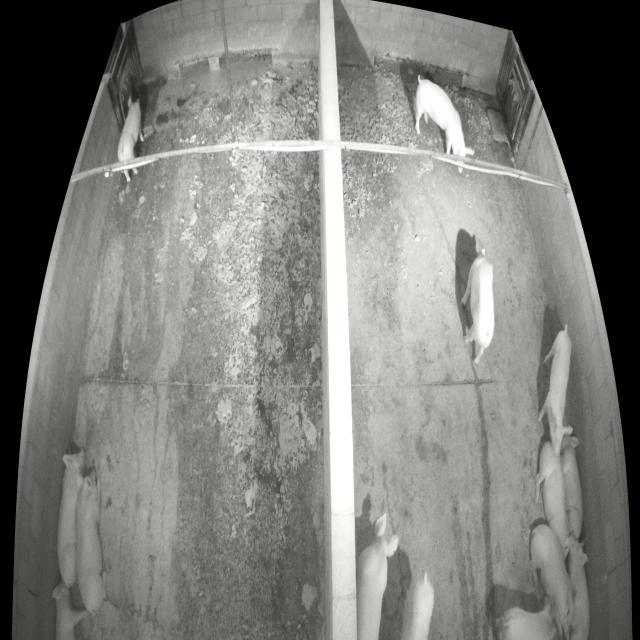pig: (529, 526, 579, 639), (356, 513, 400, 638), (415, 79, 474, 172), (74, 471, 106, 612), (538, 331, 573, 456), (56, 449, 85, 588), (461, 248, 494, 367), (535, 442, 568, 544), (563, 532, 591, 639), (560, 433, 584, 540), (495, 599, 557, 639), (118, 93, 145, 181), (52, 580, 88, 639), (402, 577, 435, 638)
